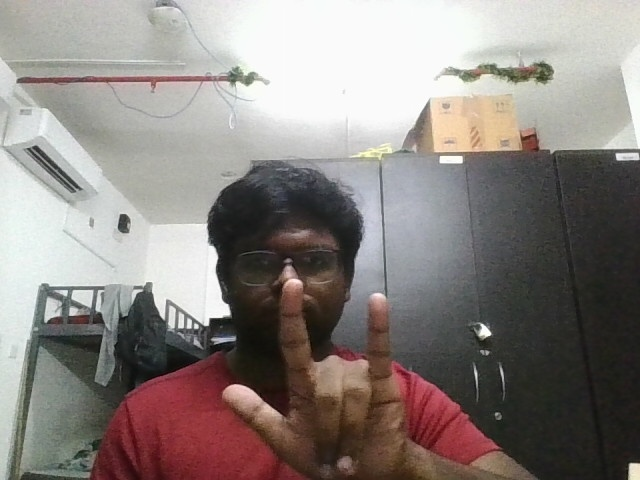I Love You: (214, 270, 433, 477)
